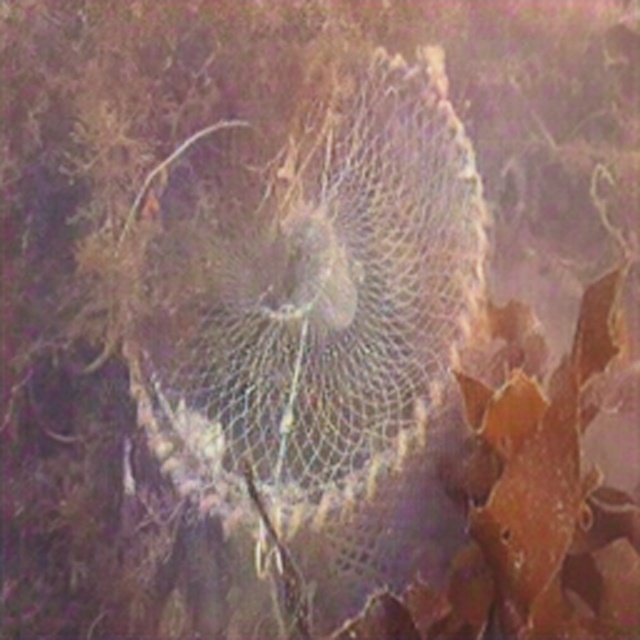mine: (125, 45, 486, 640)
